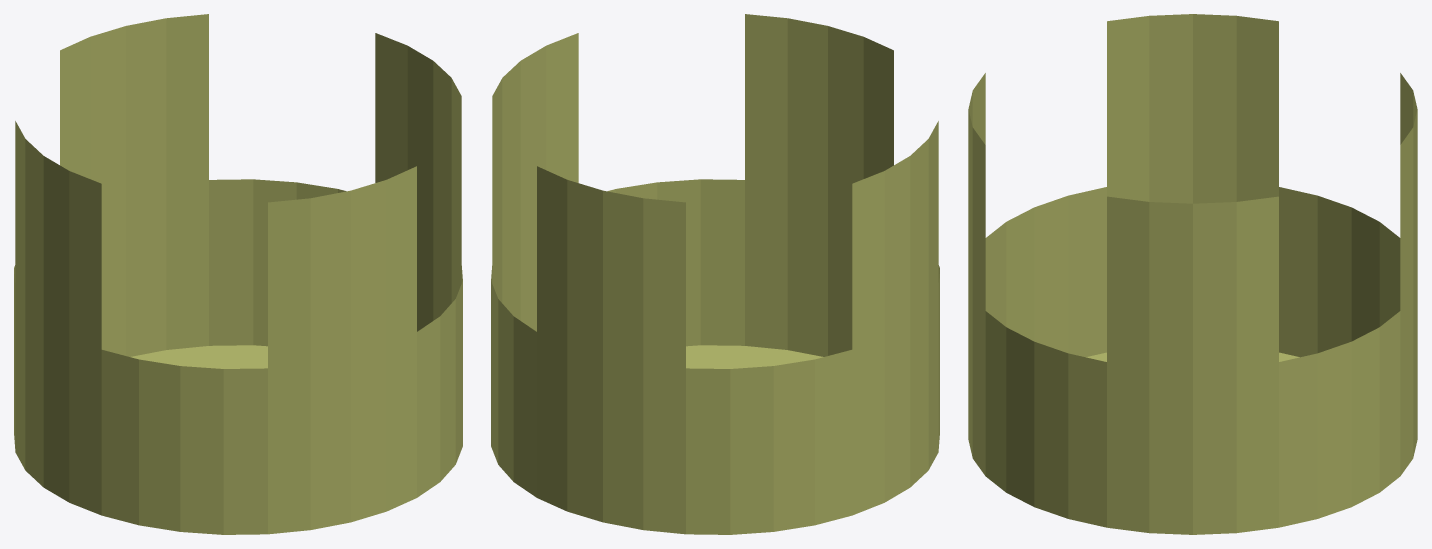
File: accesorio03.fbx
3 renders of one model, left to right at view 1: azimuth 30°, elevation 25°; view 2: azimuth 150°, elevation 25°; view 3: azimuth 270°, elevation 25°, orthographic.
Visible parts, largest first — view 1: Circle; view 2: Circle; view 3: Circle.
Part boxes in pixels (<box>): Circle: <box>14,14,462,534</box>; Circle: <box>491,14,939,534</box>; Circle: <box>968,14,1417,534</box>.
Size of the model in its own units: 4 by 4 by 3.26.
